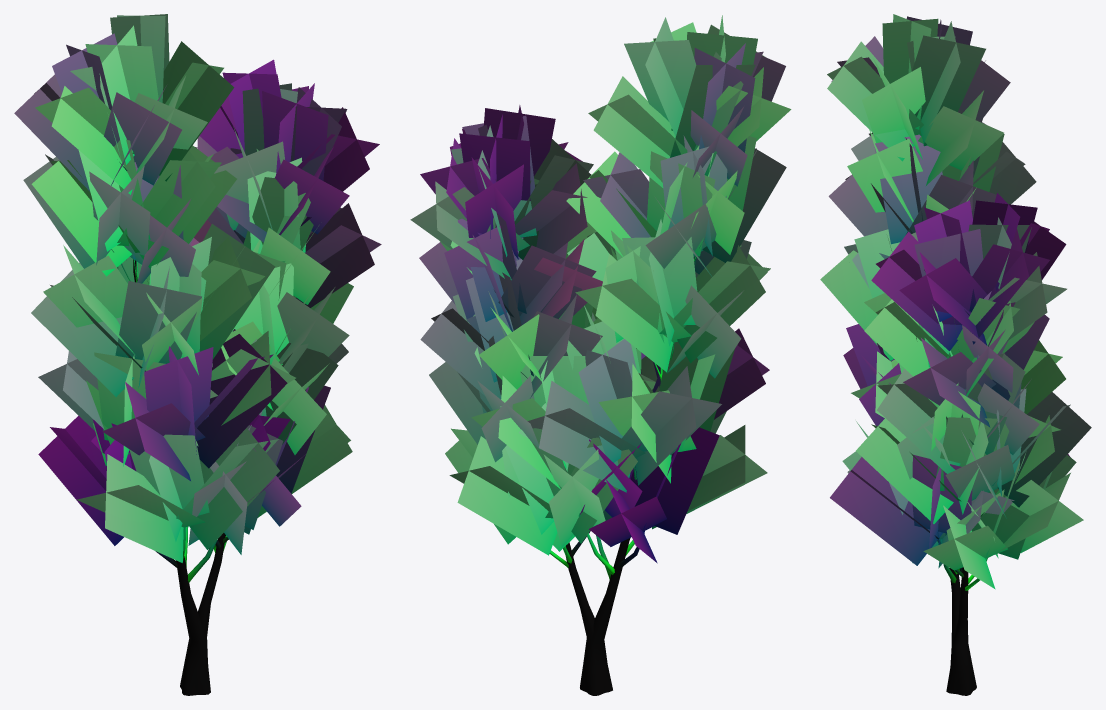
File: Tree_9_10.fbx
3 renders of one model, left to right at view 1: azimuth 30°, elevation 25°; view 2: azimuth 150°, elevation 25°; view 3: azimuth 270°, elevation 25°, orthographic. The views are drawn at different scales.
Visible parts, largest first — view 1: _10; view 2: _10; view 3: _10.
Boxes of the visible parts, bbox=[...] form: _10: bbox=[14, 14, 381, 695]; _10: bbox=[410, 15, 791, 695]; _10: bbox=[820, 14, 1091, 695].
Size of the model in its own units: 962 by 1851 by 721.
